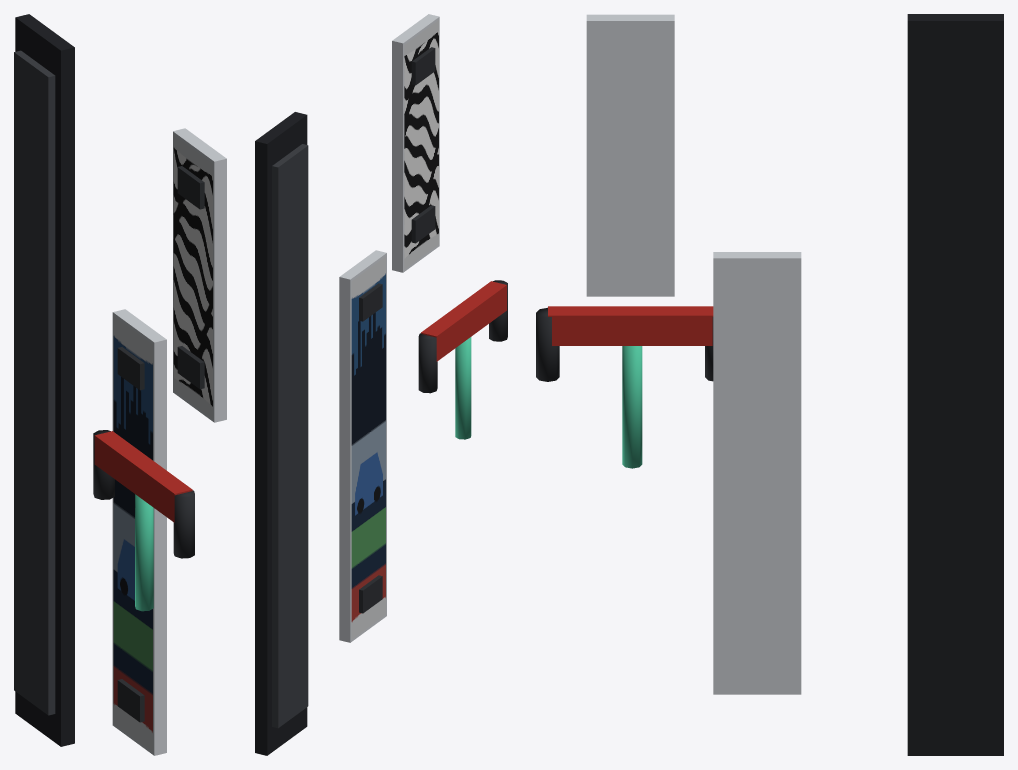
Rendered from garage_boards.glb.
3 renders of one model, left to right at view 1: azimuth 30°, elevation 25°; view 2: azimuth 150°, elevation 25°; view 3: azimuth 270°, elevation 25°, orthographic. The views are drawn at different scales.
Visible parts, largest first — view 1: root; view 2: root; view 3: root.
Part boxes in pixels (x1,y1,x2,y2): root: (14,14,226,755); root: (255,14,507,755); root: (536,14,1003,755).
Bounding box in the file's own units: 0.1554 × 1.46 × 0.8443.
9 materials, 2 textured.
